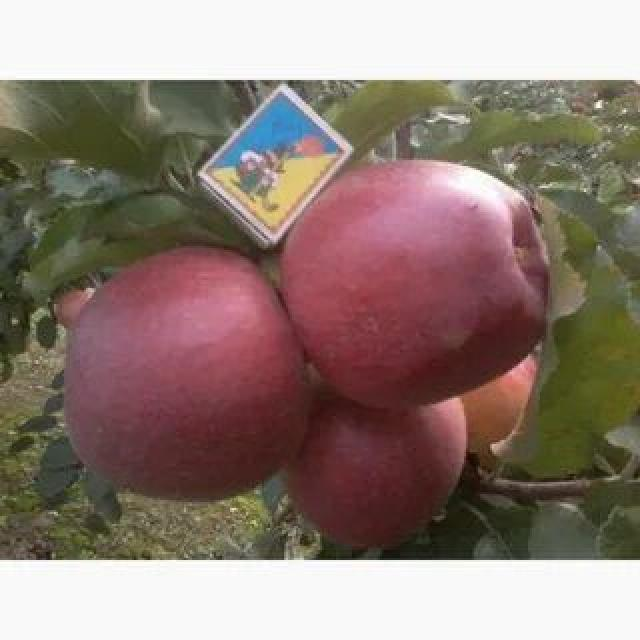Fresh Apple: (270, 165, 538, 423), (73, 255, 297, 493)
